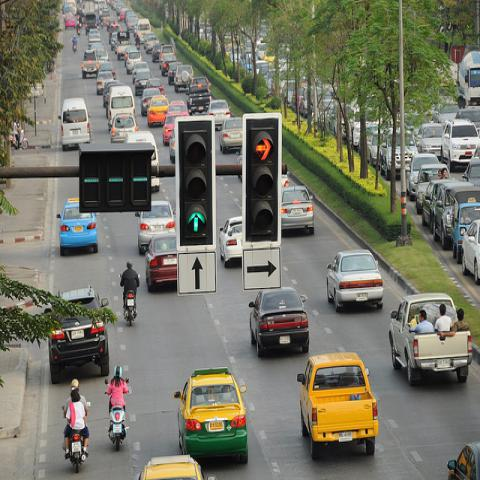car: (39, 0, 479, 257), (174, 367, 251, 458), (48, 288, 111, 384), (249, 286, 310, 356), (325, 248, 384, 312), (432, 180, 474, 250), (56, 197, 99, 259), (140, 233, 177, 294), (421, 177, 457, 233), (281, 185, 316, 237), (219, 215, 243, 269), (146, 95, 169, 127)
motorcycle: (119, 273, 140, 325), (67, 429, 86, 473), (110, 405, 126, 454), (73, 44, 77, 54)
truck: (297, 352, 378, 459), (386, 290, 473, 389), (450, 186, 479, 264), (439, 116, 479, 170), (458, 50, 479, 107), (184, 83, 212, 115), (85, 11, 97, 35)
